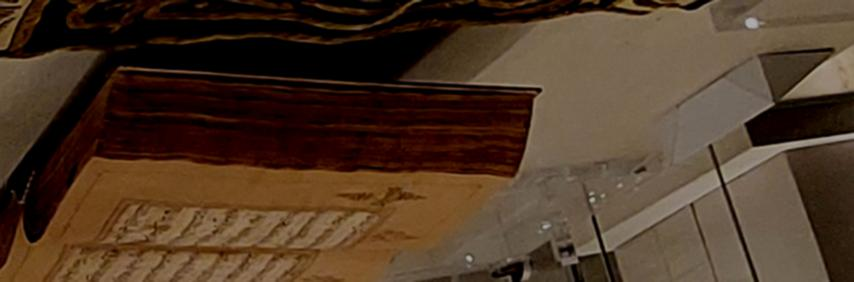The_HolyQuran: (0, 65, 541, 282)
